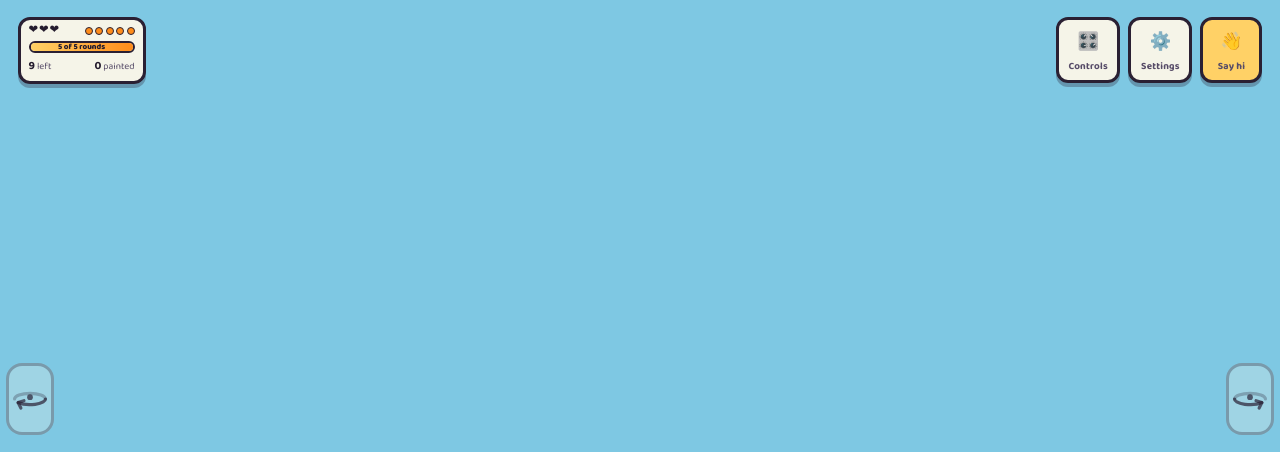
it: the HUD on a phone › offers the way out of a game from behind Controls
The image size is (1280, 452).
Click the button "🎛️ Controls". click: (1088, 50)
box: [1056,17,1120,83]
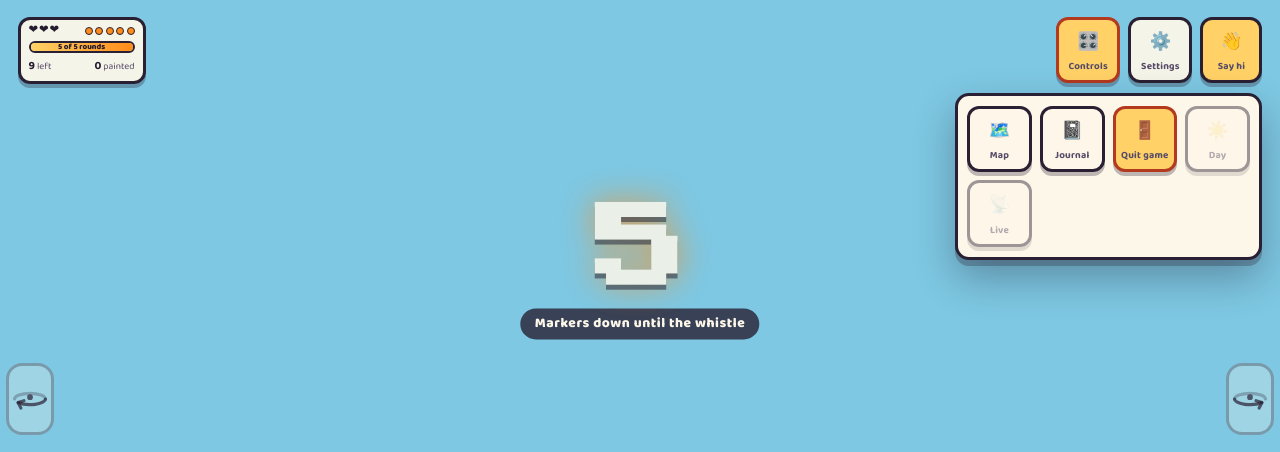
Expected: the element named "Controls" shows "Quit game", [1112,106,1177,172]
